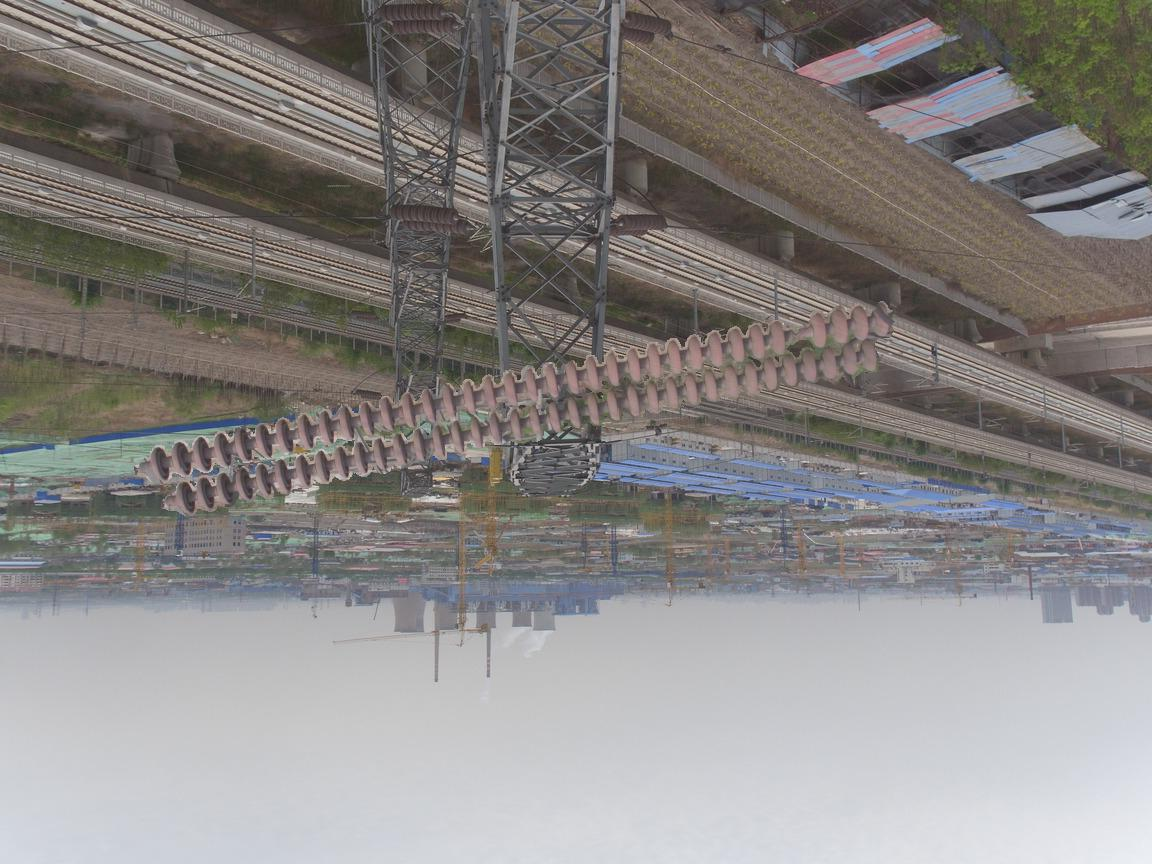insulator: (139, 292, 896, 522), (385, 199, 471, 237), (378, 1, 466, 37), (617, 9, 675, 46), (608, 212, 672, 240)
insulator_stringdrop: (766, 310, 831, 359)
